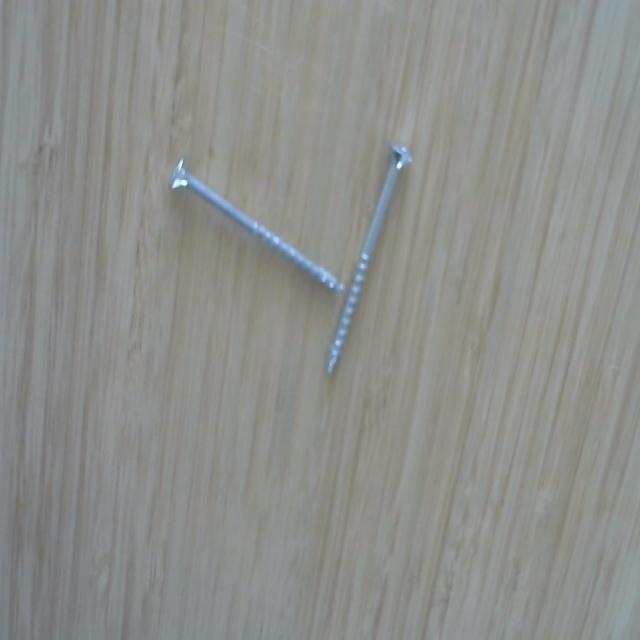Long screw: (164, 150, 347, 300), (323, 135, 416, 389)
